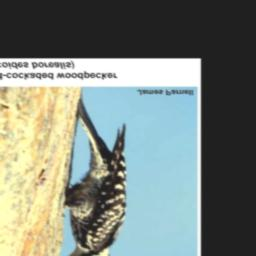Woodpecker: (46, 97, 132, 256)
